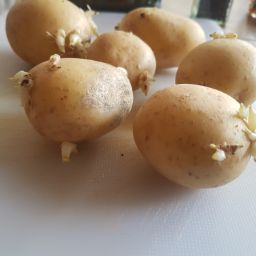Russet potato: (2, 4, 256, 192), (142, 80, 256, 194), (15, 61, 137, 166), (113, 7, 214, 67), (178, 32, 256, 104), (81, 23, 161, 92), (7, 2, 101, 56)
